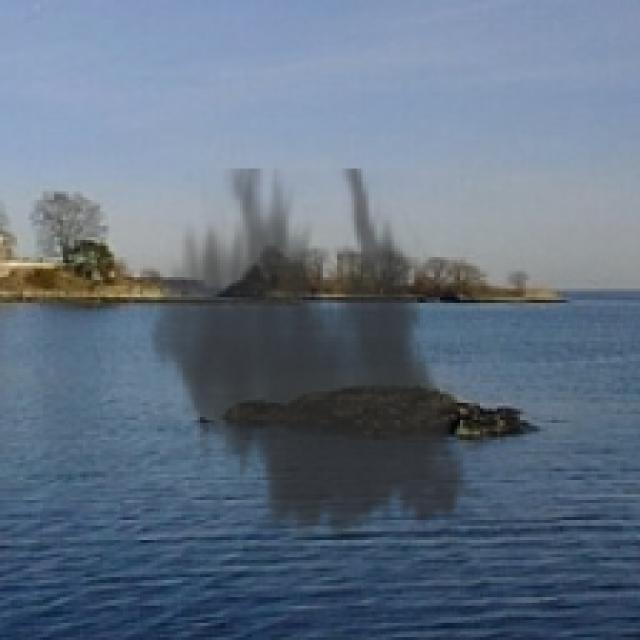smoke: (140, 169, 483, 557)
